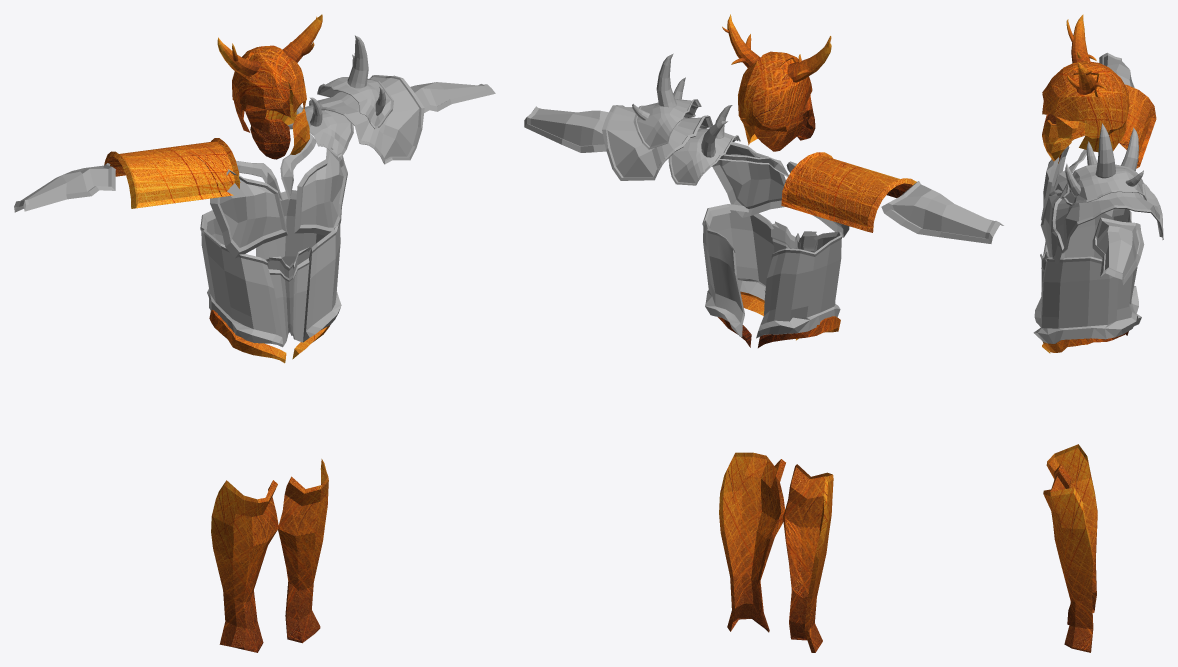
The model's file is Character.fbx.
3 renders of one model, left to right at view 1: azimuth 30°, elevation 25°; view 2: azimuth 150°, elevation 25°; view 3: azimuth 270°, elevation 25°, orthographic. The views are drawn at different scales.
Parts seen in each view (by area): view 1: TORSO, R_beenplaat, R_SHOULDER, Mesh_HELMET, Mesh_L_Beenplaat, Mesh_Group25475, Mesh_L_CHESTPLATE, R_CHEASTPLATE, R_UNDERARM, Mesh_Group25476, L_Arm, Mesh_Group25477 (+4 smaller); view 2: TORSO, Mesh_L_Beenplaat, R_beenplaat, R_SHOULDER, Mesh_HELMET, Mesh_Group25475, R_UNDERARM, R_CHEASTPLATE, L_Arm, Mesh_Group25477, Mesh_Group25476, R_heupding (+2 smaller); view 3: TORSO, Mesh_HELMET, Mesh_L_Beenplaat, Mesh_Group25475, L_Arm, R_beenplaat, Mesh_Group25476, R_SHOULDER, R_CHEASTPLATE, pCylinder11, Mesh_L_CHESTPLATE, R_grotehoorn (+6 smaller).
Part boxes in pixels (x1=…): TORSO: x1=200, y1=190, x2=341, y2=347; R_beenplaat: x1=211, y1=480, x2=278, y2=652; R_SHOULDER: x1=104, y1=138, x2=240, y2=208; Mesh_HELMET: x1=232, y1=45, x2=309, y2=159; Mesh_L_Beenplaat: x1=278, y1=459, x2=328, y2=643; Mesh_Group25475: x1=309, y1=75, x2=424, y2=164; Mesh_L_CHESTPLATE: x1=210, y1=169, x2=287, y2=258; R_CHEASTPLATE: x1=294, y1=147, x2=347, y2=235; R_UNDERARM: x1=14, y1=163, x2=115, y2=212; Mesh_Group25476: x1=317, y1=77, x2=393, y2=129; L_Arm: x1=410, y1=82, x2=495, y2=112; Mesh_Group25477: x1=288, y1=105, x2=353, y2=157; TORSO: x1=702, y1=204, x2=842, y2=338; Mesh_L_Beenplaat: x1=719, y1=452, x2=785, y2=632; R_beenplaat: x1=783, y1=464, x2=833, y2=652; R_SHOULDER: x1=781, y1=152, x2=916, y2=232; Mesh_HELMET: x1=738, y1=51, x2=815, y2=151; Mesh_Group25475: x1=602, y1=105, x2=712, y2=180; R_UNDERARM: x1=881, y1=181, x2=1003, y2=243; R_CHEASTPLATE: x1=712, y1=142, x2=785, y2=217; L_Arm: x1=524, y1=106, x2=608, y2=152; Mesh_Group25477: x1=668, y1=128, x2=740, y2=185; Mesh_Group25476: x1=633, y1=99, x2=701, y2=149; R_heupding: x1=758, y1=316, x2=840, y2=347; TORSO: x1=1033, y1=208, x2=1141, y2=343; Mesh_HELMET: x1=1042, y1=61, x2=1129, y2=161; Mesh_L_Beenplaat: x1=1043, y1=472, x2=1093, y2=652; Mesh_Group25475: x1=1051, y1=184, x2=1163, y2=253; L_Arm: x1=1092, y1=217, x2=1144, y2=284; R_beenplaat: x1=1046, y1=444, x2=1097, y2=624; Mesh_Group25476: x1=1062, y1=164, x2=1146, y2=205; R_SHOULDER: x1=1058, y1=84, x2=1156, y2=168; R_CHEASTPLATE: x1=1040, y1=189, x2=1062, y2=264; pCylinder11: x1=1095, y1=123, x2=1115, y2=178; Mesh_L_CHESTPLATE: x1=1041, y1=146, x2=1069, y2=220; R_grotehoorn: x1=1071, y1=14, x2=1090, y2=63.
Bounding box in the file's own units: 4.12 × 5.15 × 1.02.
